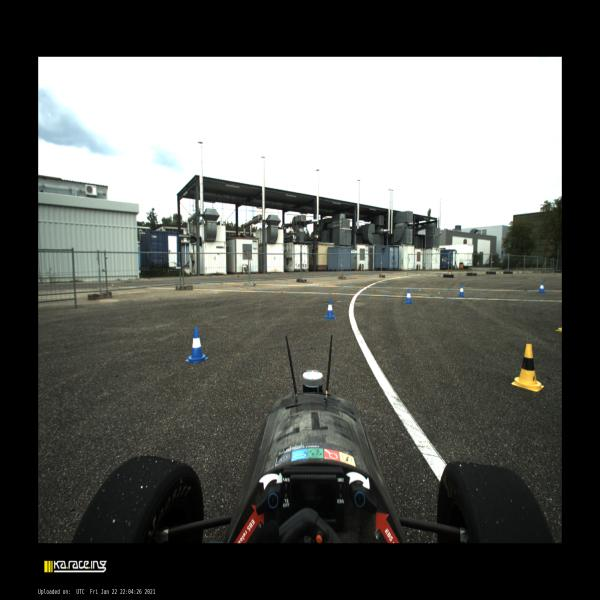blue_cone: (186, 327, 208, 363), (325, 299, 336, 319), (404, 289, 413, 304), (458, 284, 465, 296), (538, 282, 545, 293)
yellow_cone: (511, 344, 544, 392)
